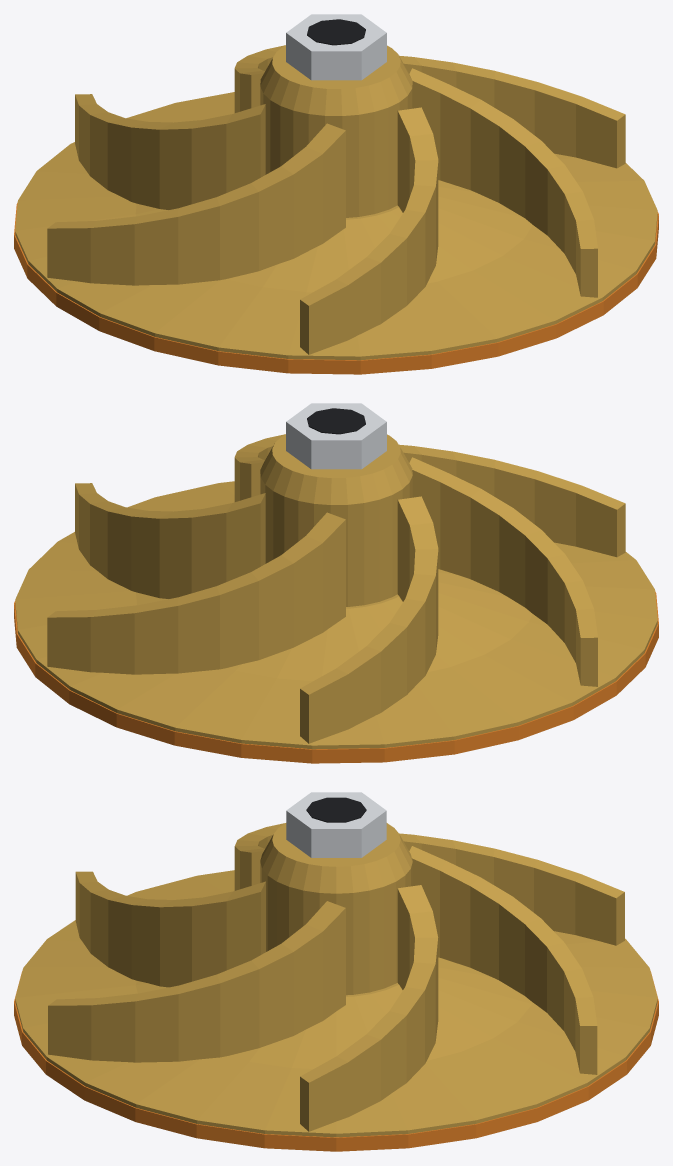
Rendered from impeller_quality.glb.
3 renders of one model, top to bottom at view 1: azimuth 30°, elevation 25°; view 2: azimuth 150°, elevation 25°; view 3: azimuth 270°, elevation 25°, orthographic.
Visible parts, largest first — view 1: impeller_quality; view 2: impeller_quality; view 3: impeller_quality.
Part boxes in pixels (<box>): impeller_quality: <box>14,14,658,374</box>; impeller_quality: <box>14,403,658,763</box>; impeller_quality: <box>14,792,658,1151</box>.
Size of the model in its own units: 0.1606 by 0.0566 by 0.1606.
